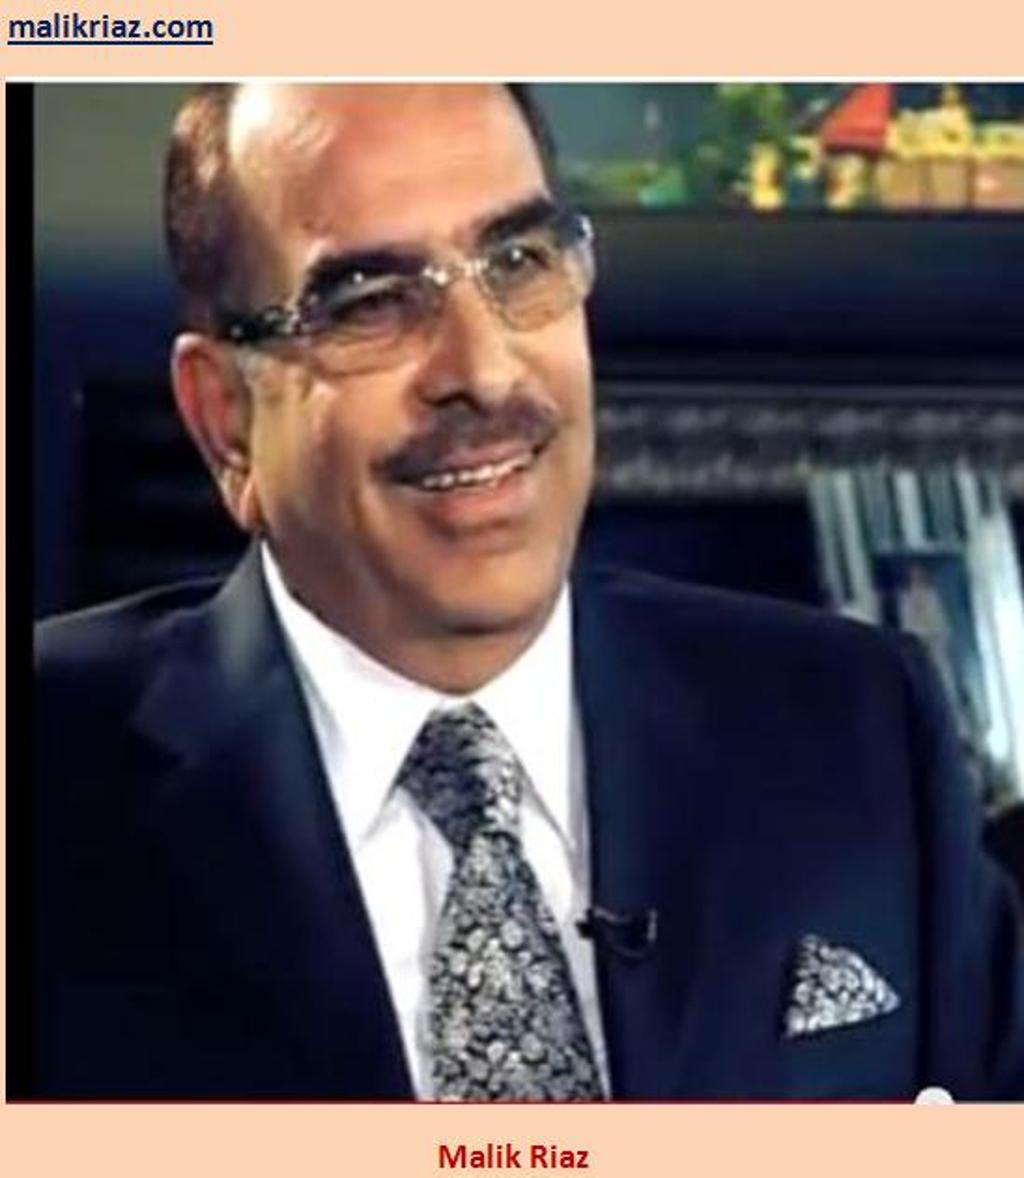face: (249, 94, 592, 630)
